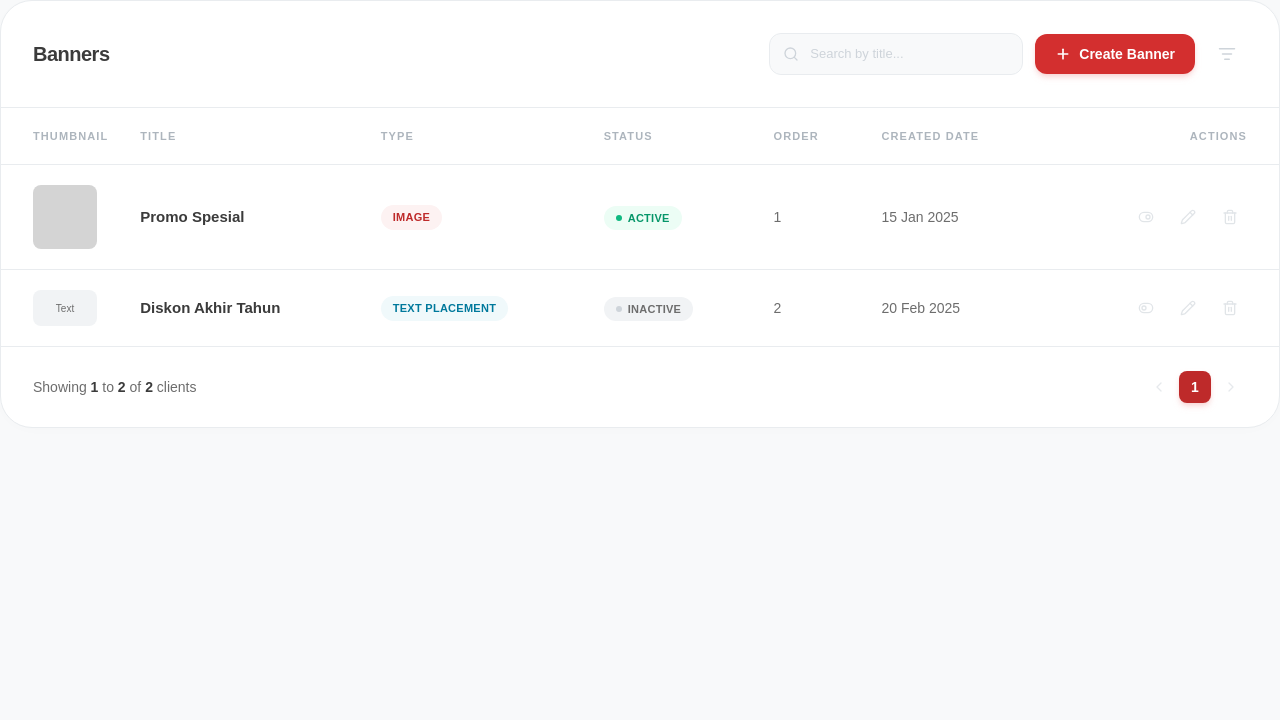
Test case: BannersPage › filter functionality › opens filter popup when filter button is clicked
The image size is (1280, 720).
Expected: the text "Promo Spesial" is shown, [140,208,244,225]
Click the button named "Filter": click(1227, 54) [1207,34,1247,74]
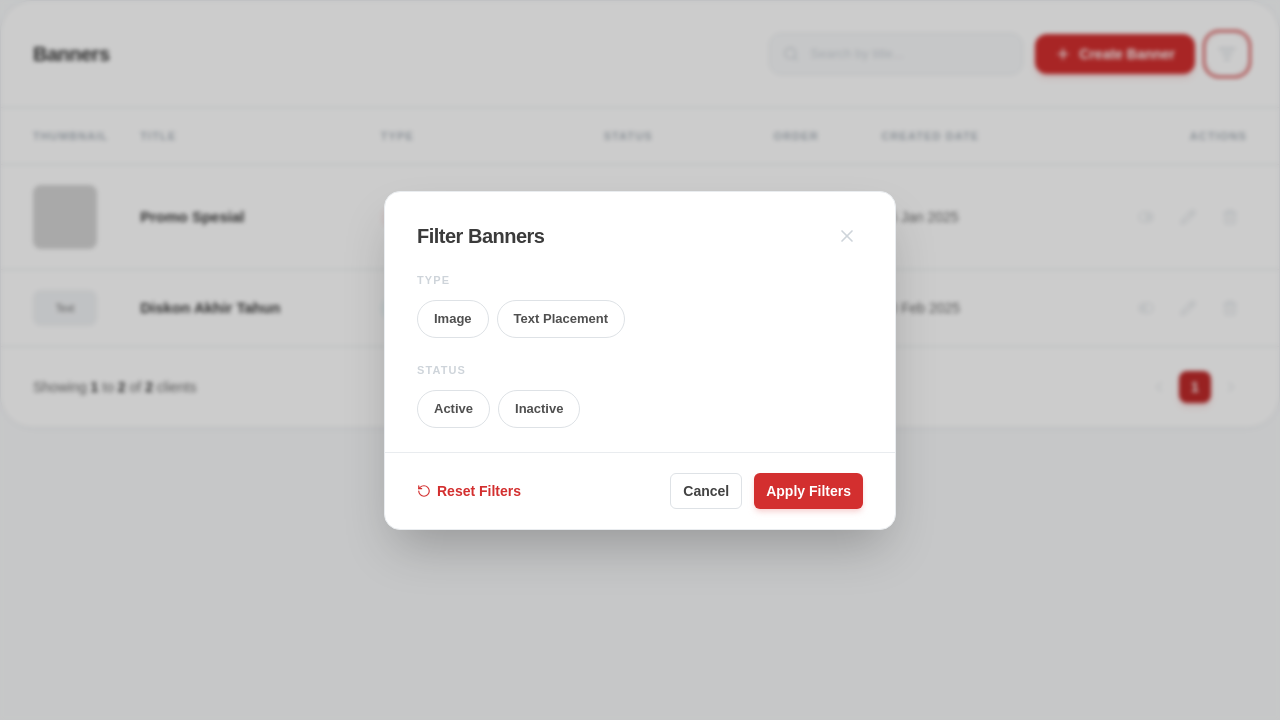
Expected: the heading "Filter Banners" is shown, [417,222,544,250]
